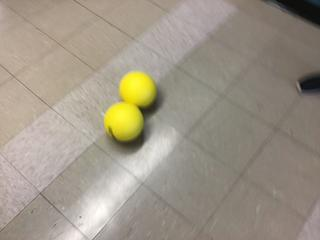power_cell: (102, 101, 146, 143), (117, 71, 160, 109)
